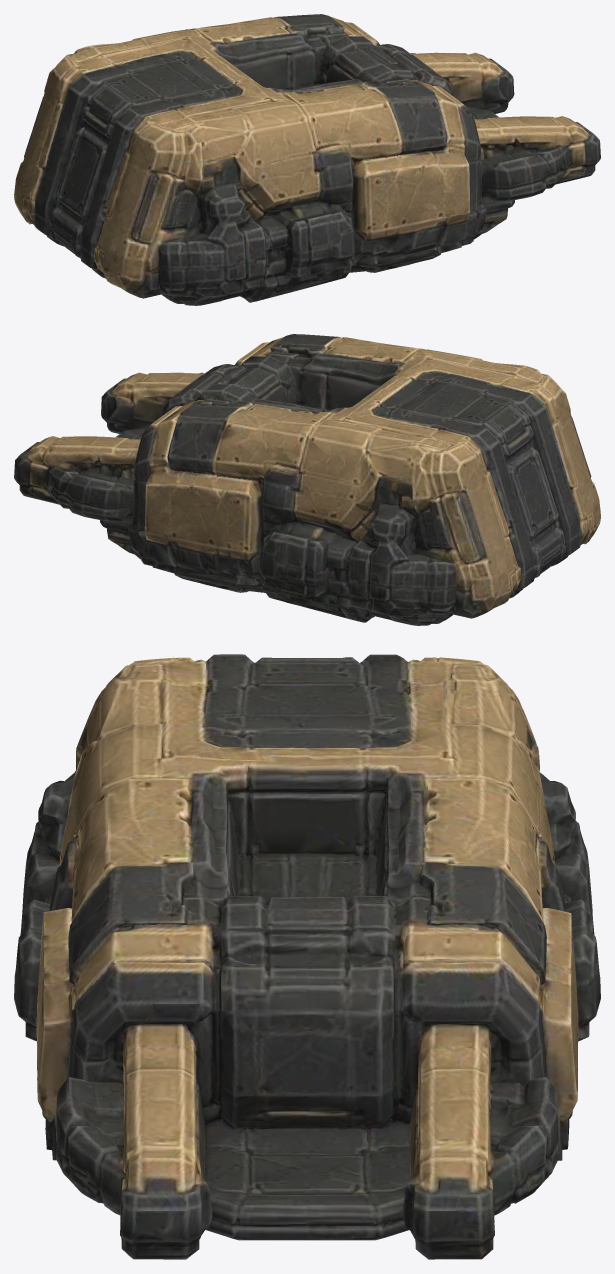
The model's file is arc-mason-lean.glb.
The picture shows the model from 3 angles, top to bottom: view 1: azimuth 30°, elevation 25°; view 2: azimuth 150°, elevation 25°; view 3: azimuth 270°, elevation 25°; orthographic projection. The views are drawn at different scales.
Visible parts, largest first — view 1: chassis; view 2: chassis; view 3: chassis.
Part boxes in pixels (left/top/right/bottom): chassis: left=14, top=14, right=600, bottom=305; chassis: left=14, top=334, right=600, bottom=625; chassis: left=14, top=654, right=600, bottom=1259.
Size of the model in its own units: 0.9899 by 0.3609 by 0.6109.
1 material, 1 textured.
